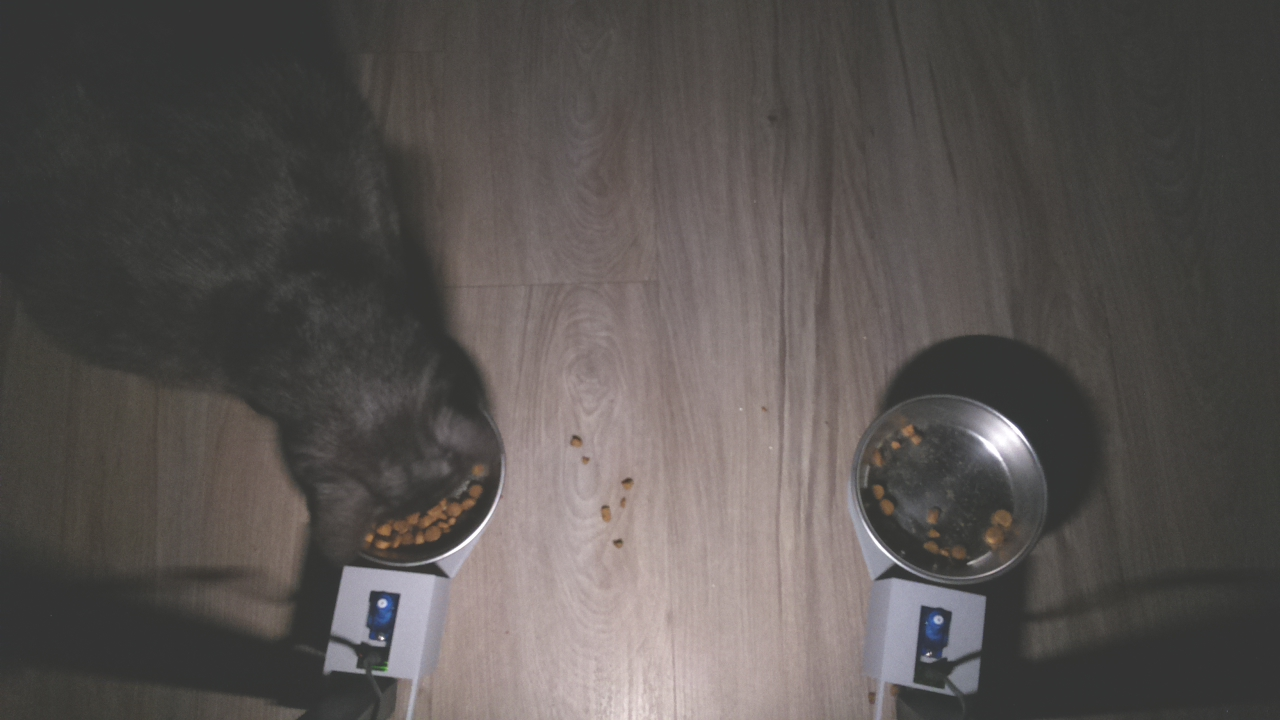open_bowl: (851, 392, 1051, 583)
saki_eating: (262, 300, 508, 577)
